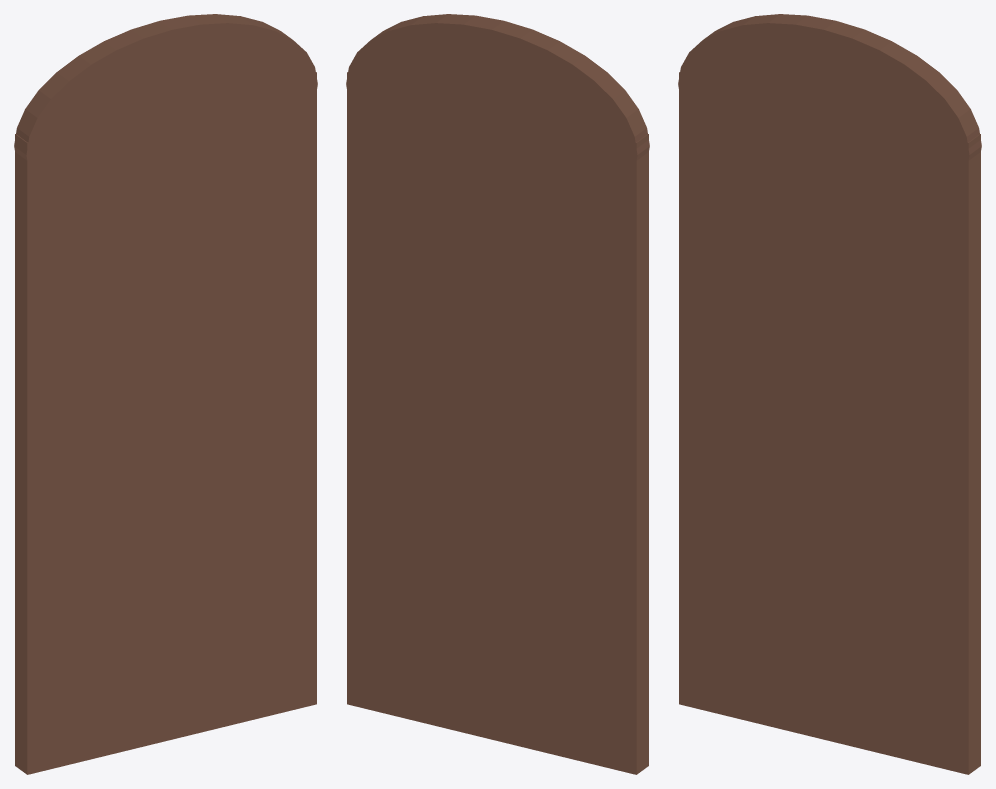
File: SM_porta_com_textura.glb
The picture shows the model from 3 angles, left to right: view 1: azimuth 30°, elevation 25°; view 2: azimuth 150°, elevation 25°; view 3: azimuth 330°, elevation 25°; orthographic projection.
Parts seen in each view (by area): view 1: Cilindro; view 2: Cilindro; view 3: Cilindro.
Boxes of the visible parts, x1=… form: Cilindro: x1=14, y1=14, x2=317, y2=774; Cilindro: x1=346, y1=14, x2=649, y2=774; Cilindro: x1=678, y1=14, x2=981, y2=774.
Bounding box in the file's own units: 2.72 × 6.33 × 0.2.
1 material, 1 textured.
